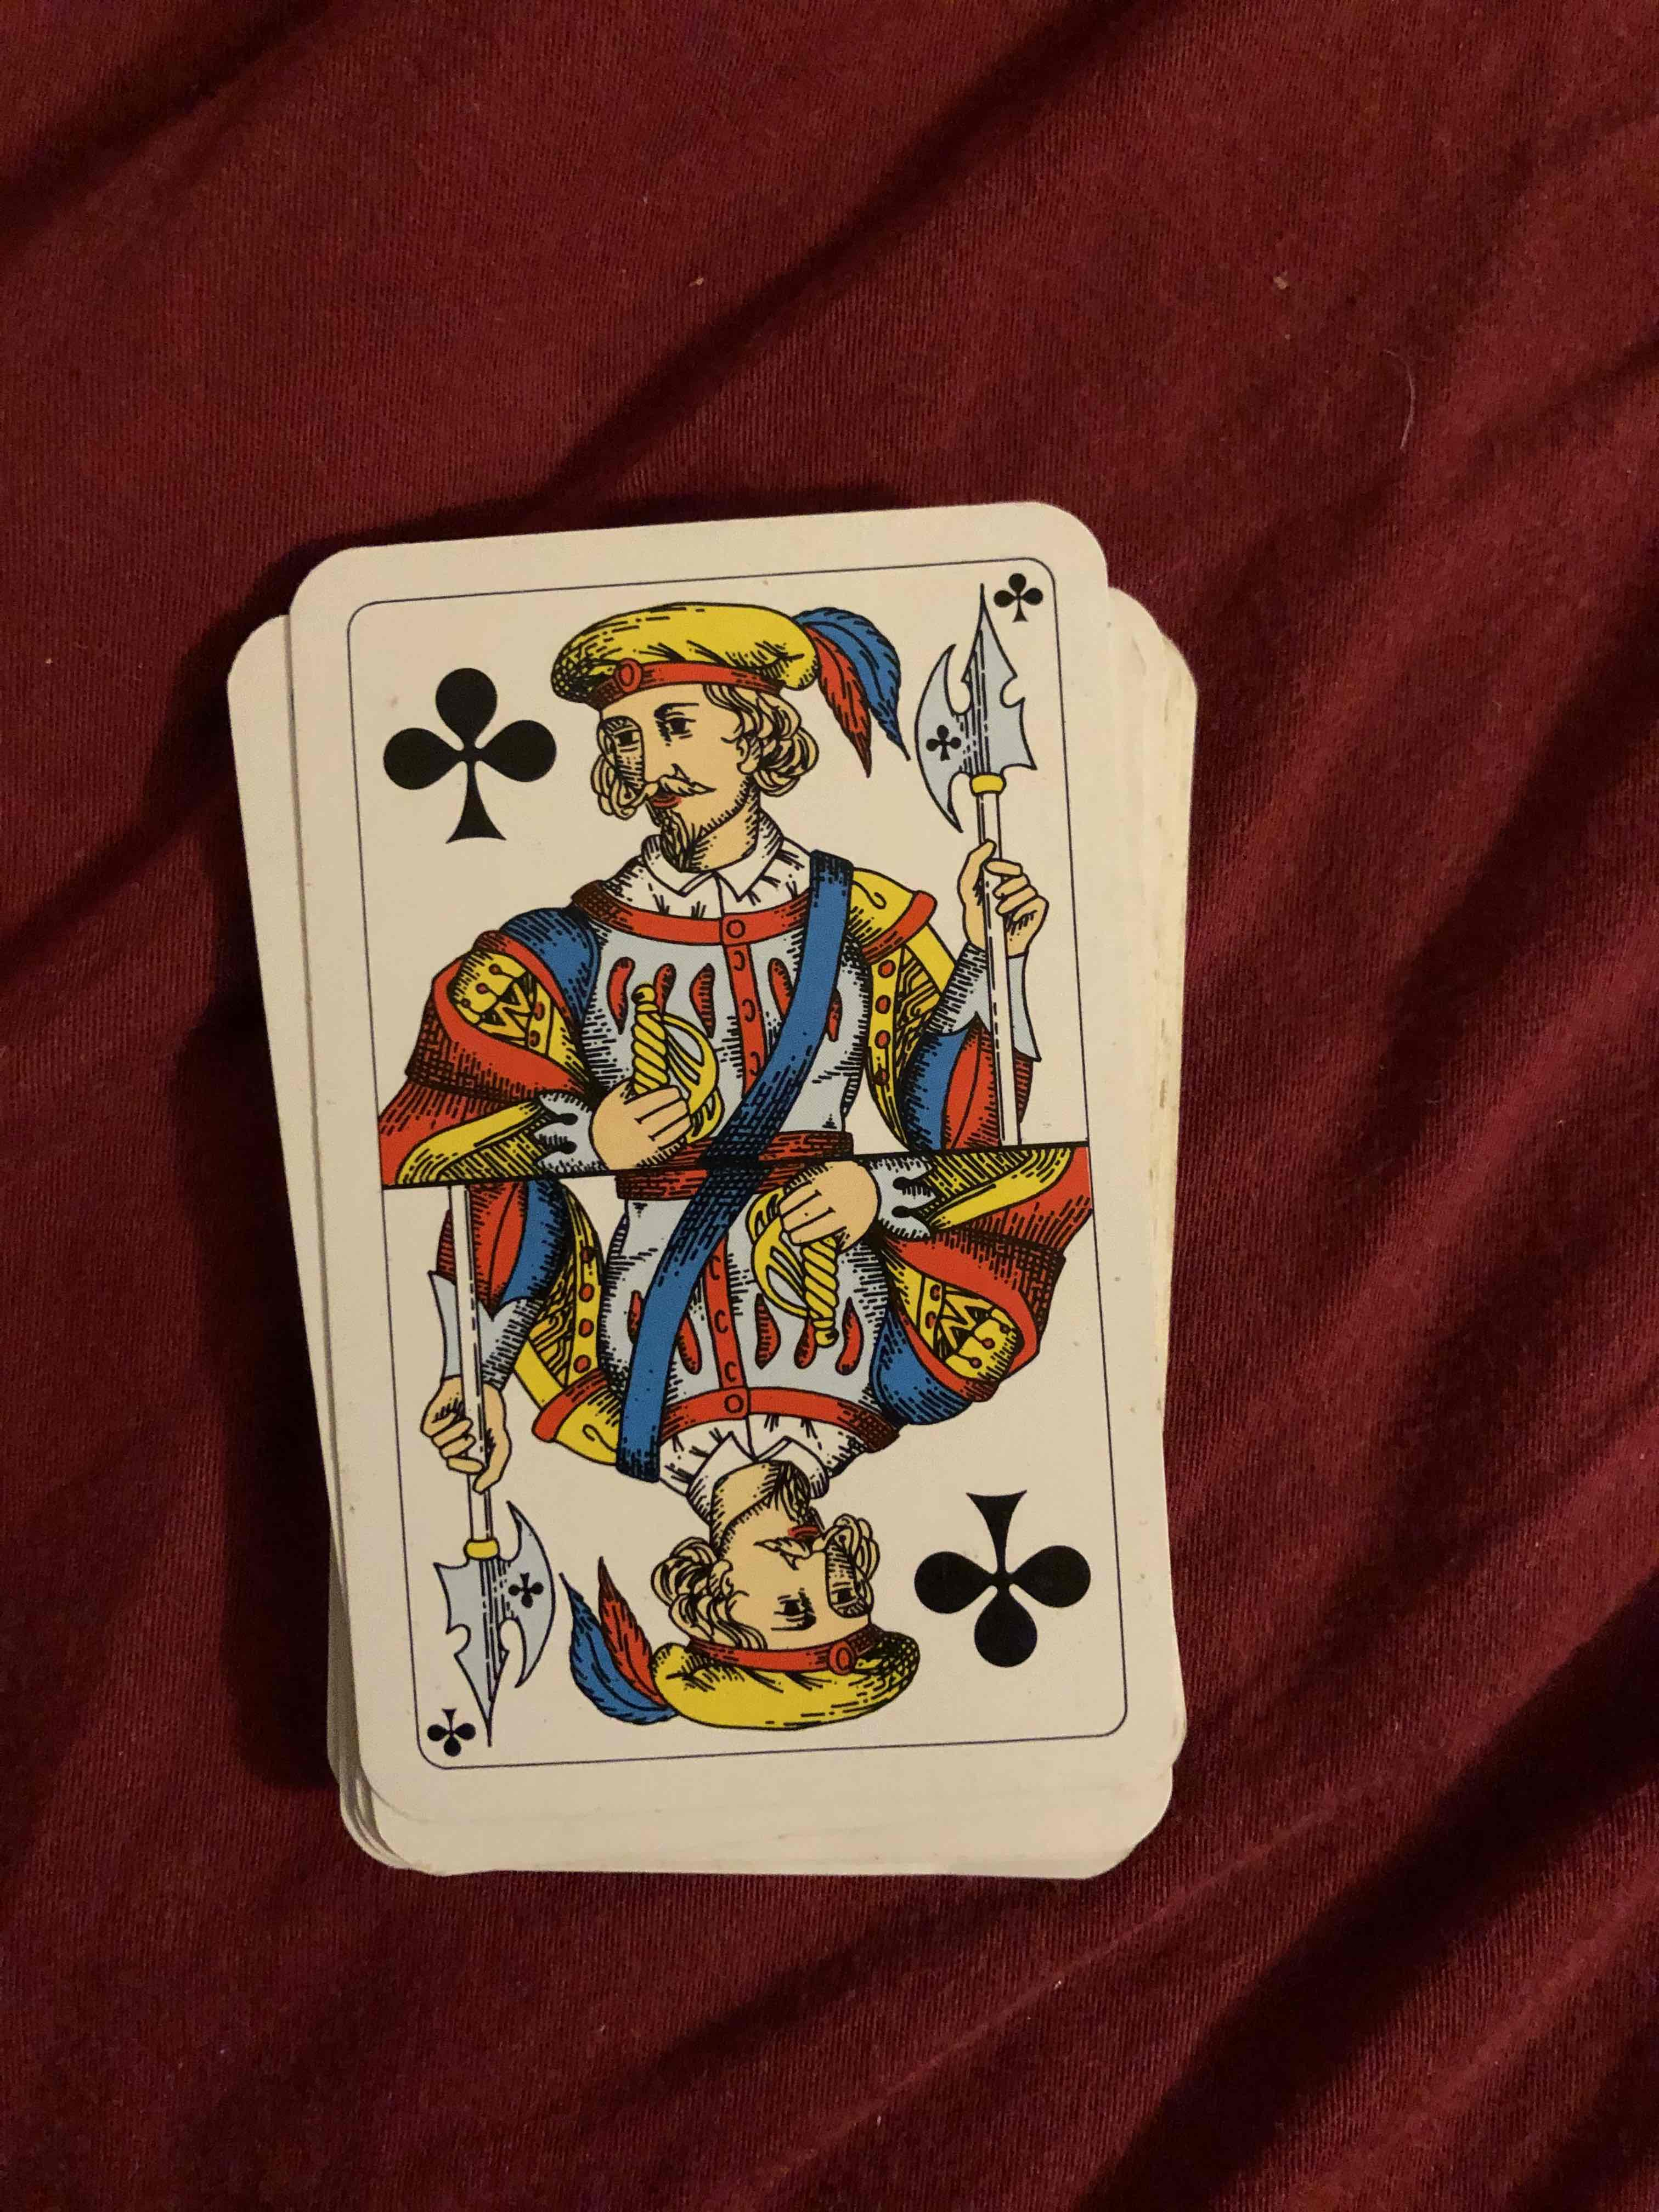clubsJack: (305, 554, 1173, 1764)
